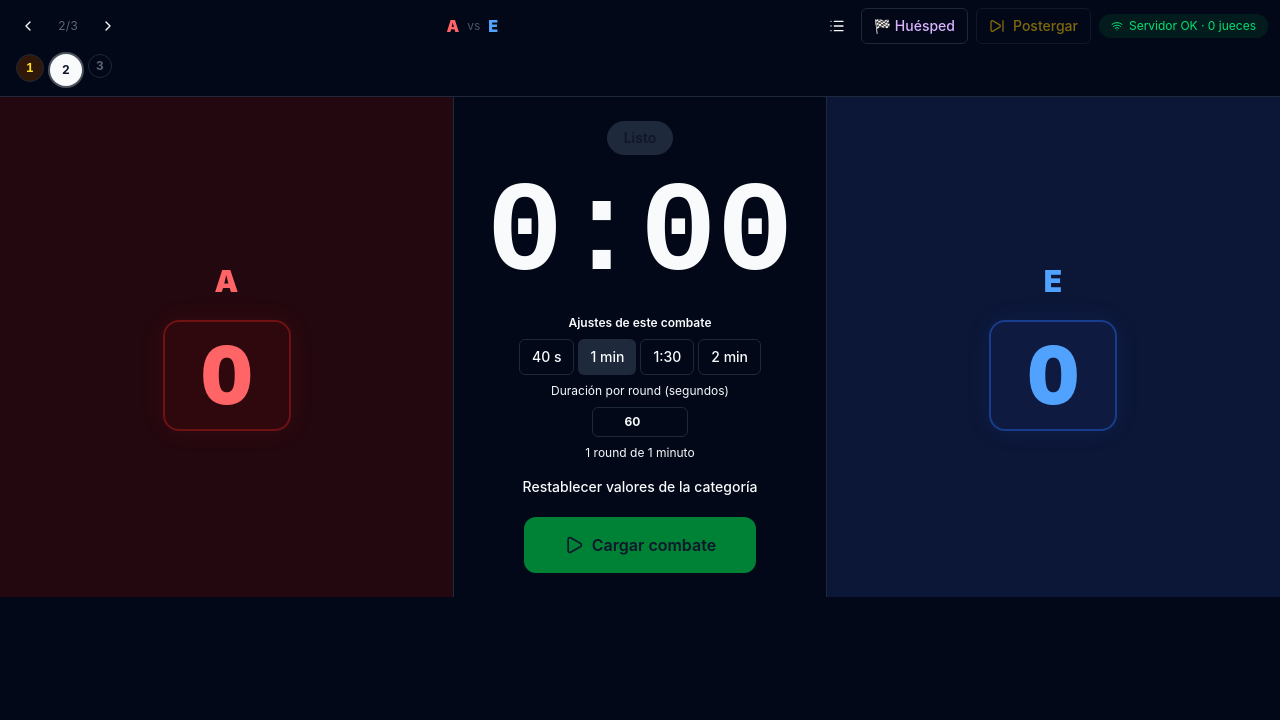
operator-confirmed round-robin rest advisory › stops the load if a newly confirmed result appears during sync
Step 1. Click the button "Cargar combate" → click(640, 545), box [524, 517, 756, 573]
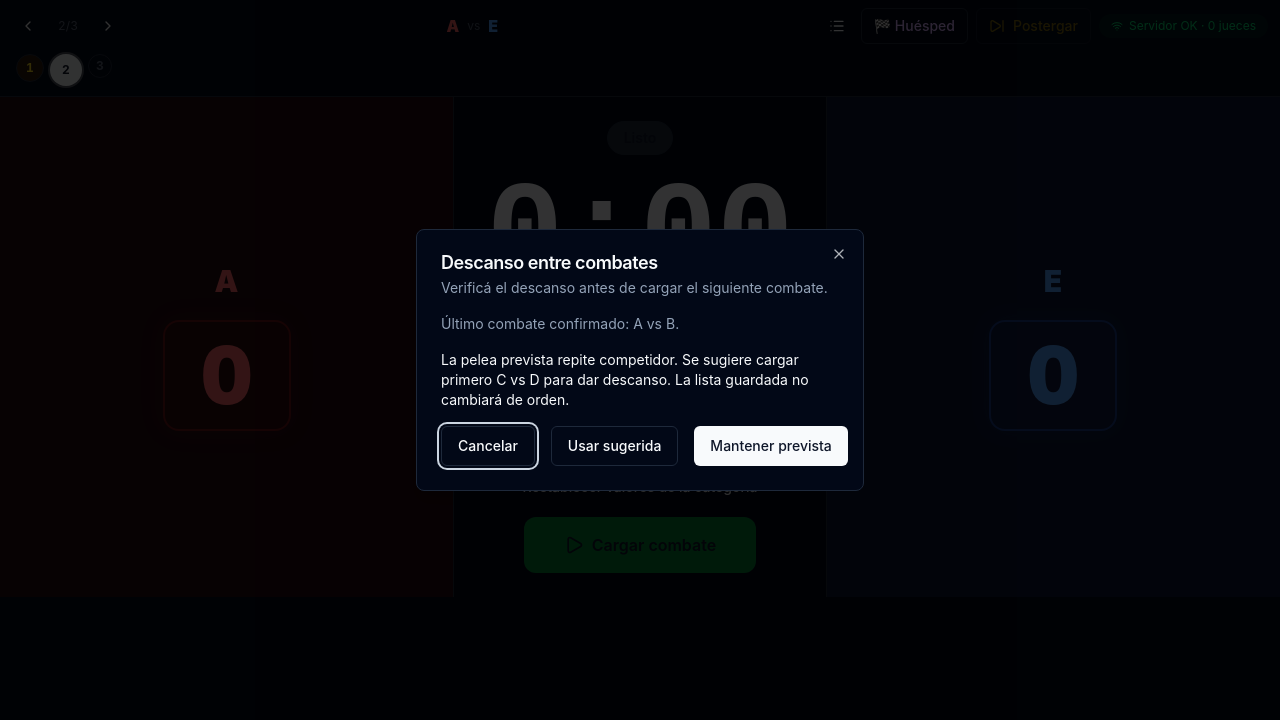
Now the button "Usar sugerida" is shown, box [551, 426, 678, 466]
